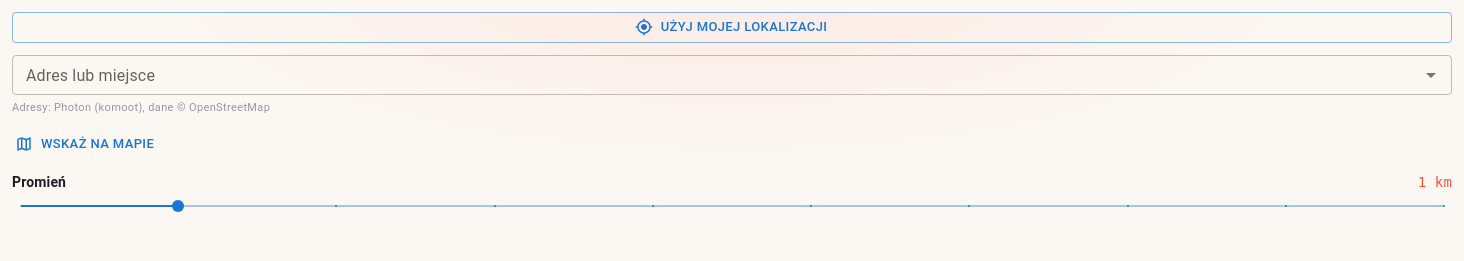
Test: NearbyFilter › explains a failed fix (code 1) and names the other ways in
This screenshot has width=1464, height=261.
Click the button "Użyj mojej lokalizacji". click: (732, 27)
box: x1=12 y1=12 x2=1452 y2=43
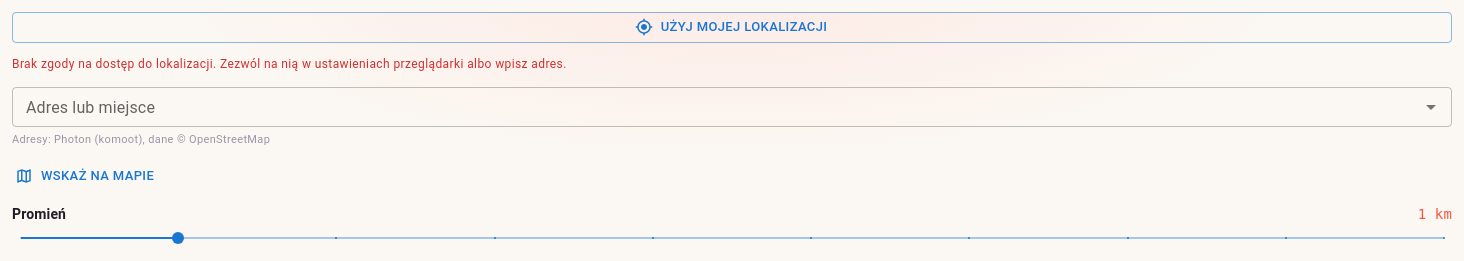
Expected: the message shows "Brak zgody na dostęp do lokalizacji", x1=12 y1=57 x2=567 y2=71
